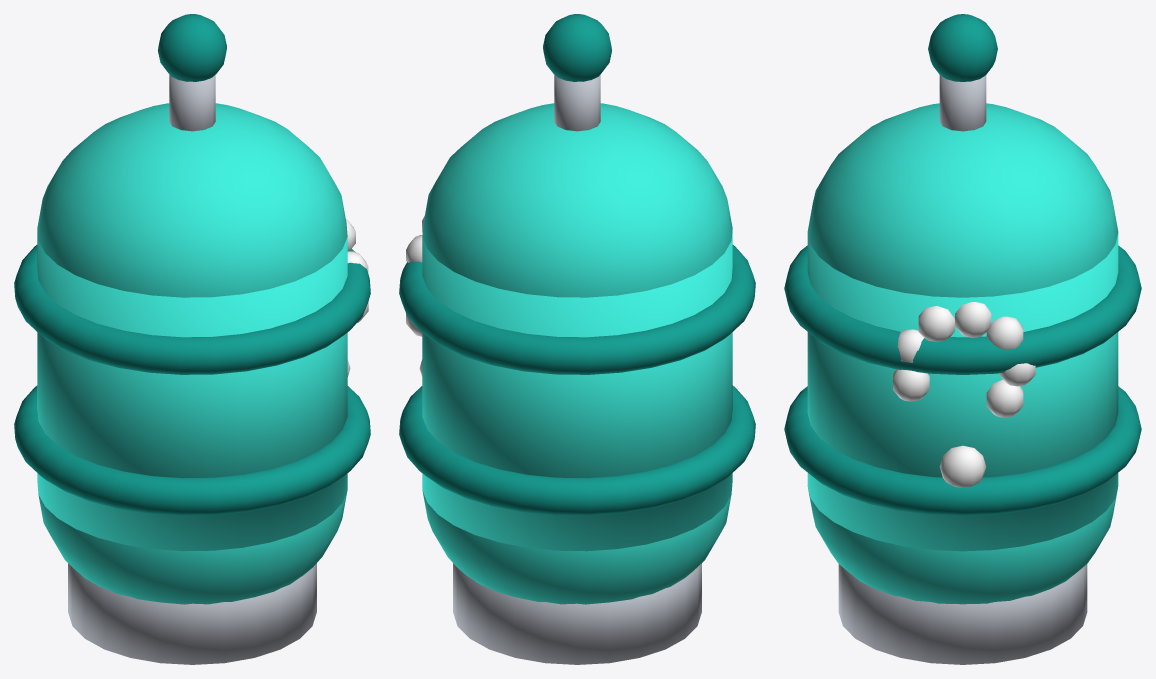
File: SM_Capsule_Iconic.fbx
3 renders of one model, left to right at view 1: azimuth 30°, elevation 25°; view 2: azimuth 150°, elevation 25°; view 3: azimuth 270°, elevation 25°, orthographic.
Parts seen in each view (by area): view 1: SM_Capsule_Iconic; view 2: SM_Capsule_Iconic; view 3: SM_Capsule_Iconic.
Boxes of the visible parts, x1,y1,x2,y2 form: SM_Capsule_Iconic: (14,14,370,664); SM_Capsule_Iconic: (399,14,755,664); SM_Capsule_Iconic: (784,14,1141,664).
Size of what is drawn, in the model's own units: 0.46 by 0.845 by 0.46.
1 material, 1 textured.
